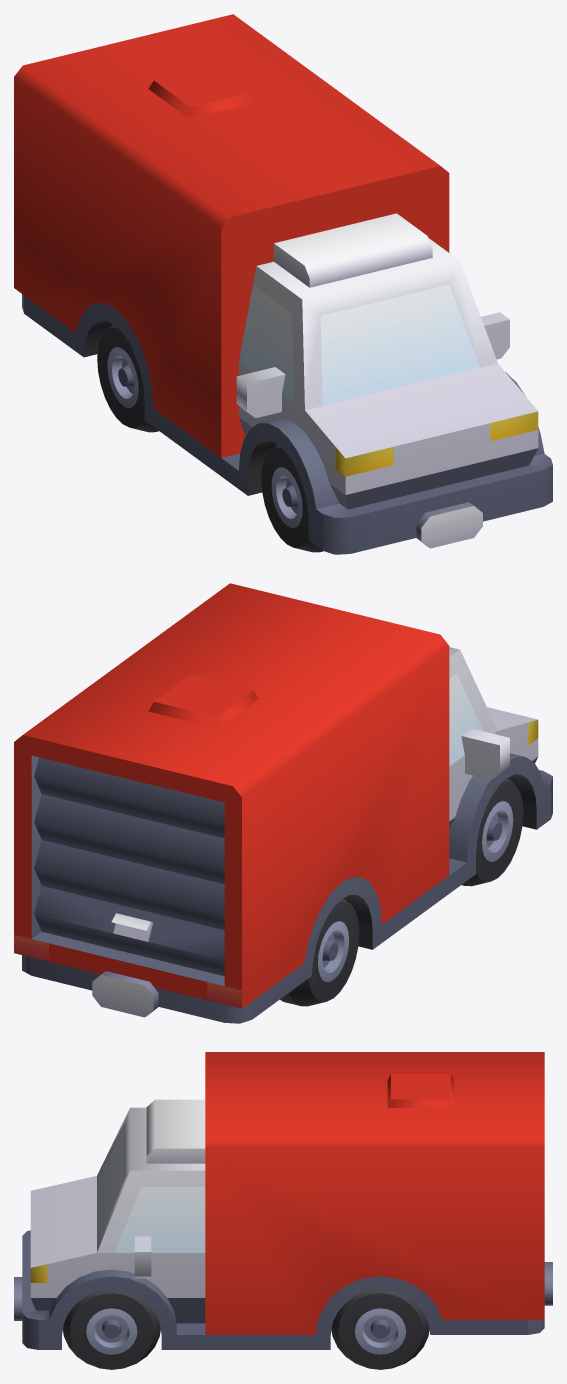
Rendered from delivery1.glb.
3 views of the same model, one above another, from view 1: azimuth 30°, elevation 25°; view 2: azimuth 150°, elevation 25°; view 3: azimuth 270°, elevation 25° (orthographic). The views are drawn at different scales.
Visible parts, largest first — view 1: body.001, body, wheel-front-right, wheel-back-right; view 2: body.001, door, body, wheel-back-right, wheel-front-right; view 3: body.001, body, wheel-back-left, wheel-front-left.
Boxes of the visible parts, x1,y1,x2,y2 form: body.001: (14,14,449,457); body: (22,213,552,554); wheel-front-right: (261,444,323,552); wheel-back-right: (97,324,158,432); body.001: (14,583,449,1008); door: (34,757,224,976); body: (14,647,552,1023); wheel-back-right: (280,898,359,1006); wheel-front-right: (461,778,523,886); body.001: (205,1052,544,1334); body: (14,1099,552,1349); wheel-back-left: (331,1290,429,1369); wheel-front-left: (63,1290,160,1369).
Bounding box in the file's own units: 1.5 × 1.65 × 3.25.
2 materials, 1 textured.
